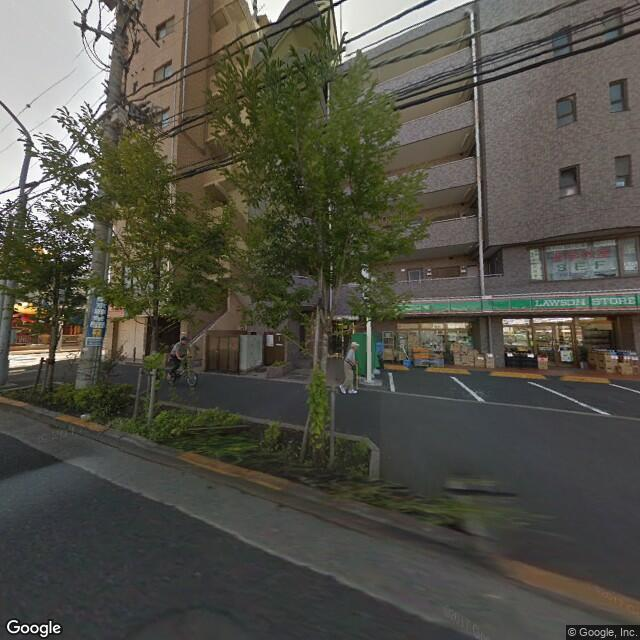lawson: (389, 287, 640, 320)
